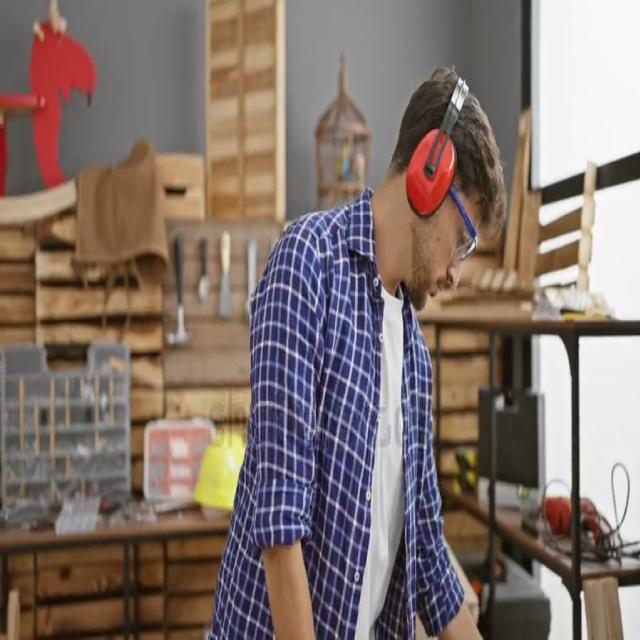Ear-Protection: (402, 118, 458, 227)
Glasses: (442, 181, 480, 269)
